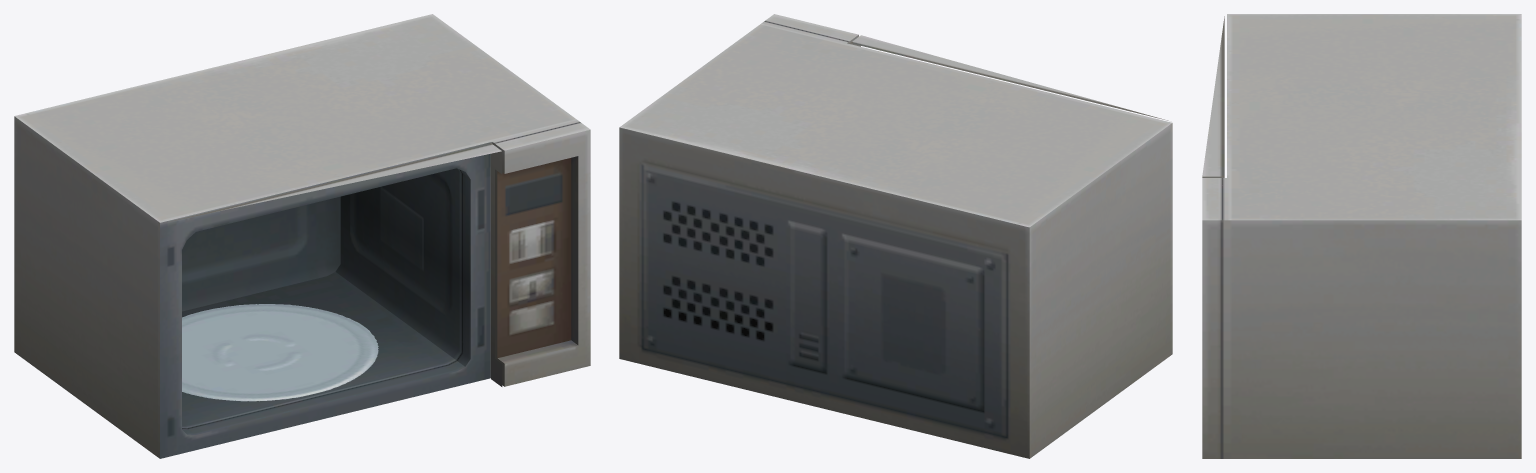
Rendered from microondas.fbx.
3 views of the same model, side by side, from view 1: azimuth 30°, elevation 25°; view 2: azimuth 150°, elevation 25°; view 3: azimuth 270°, elevation 25° (orthographic). The views are drawn at different scales.
Parts seen in each view (by area): view 1: Microondas; view 2: Microondas; view 3: Microondas.
Boxes of the visible parts, x1,y1,x2,y2 form: Microondas: (14, 14, 590, 458); Microondas: (619, 14, 1172, 458); Microondas: (1202, 14, 1521, 458).
Bounding box in the file's own units: 59.97 × 32.33 × 39.23.
Materials: 1 (1 with a texture image).
